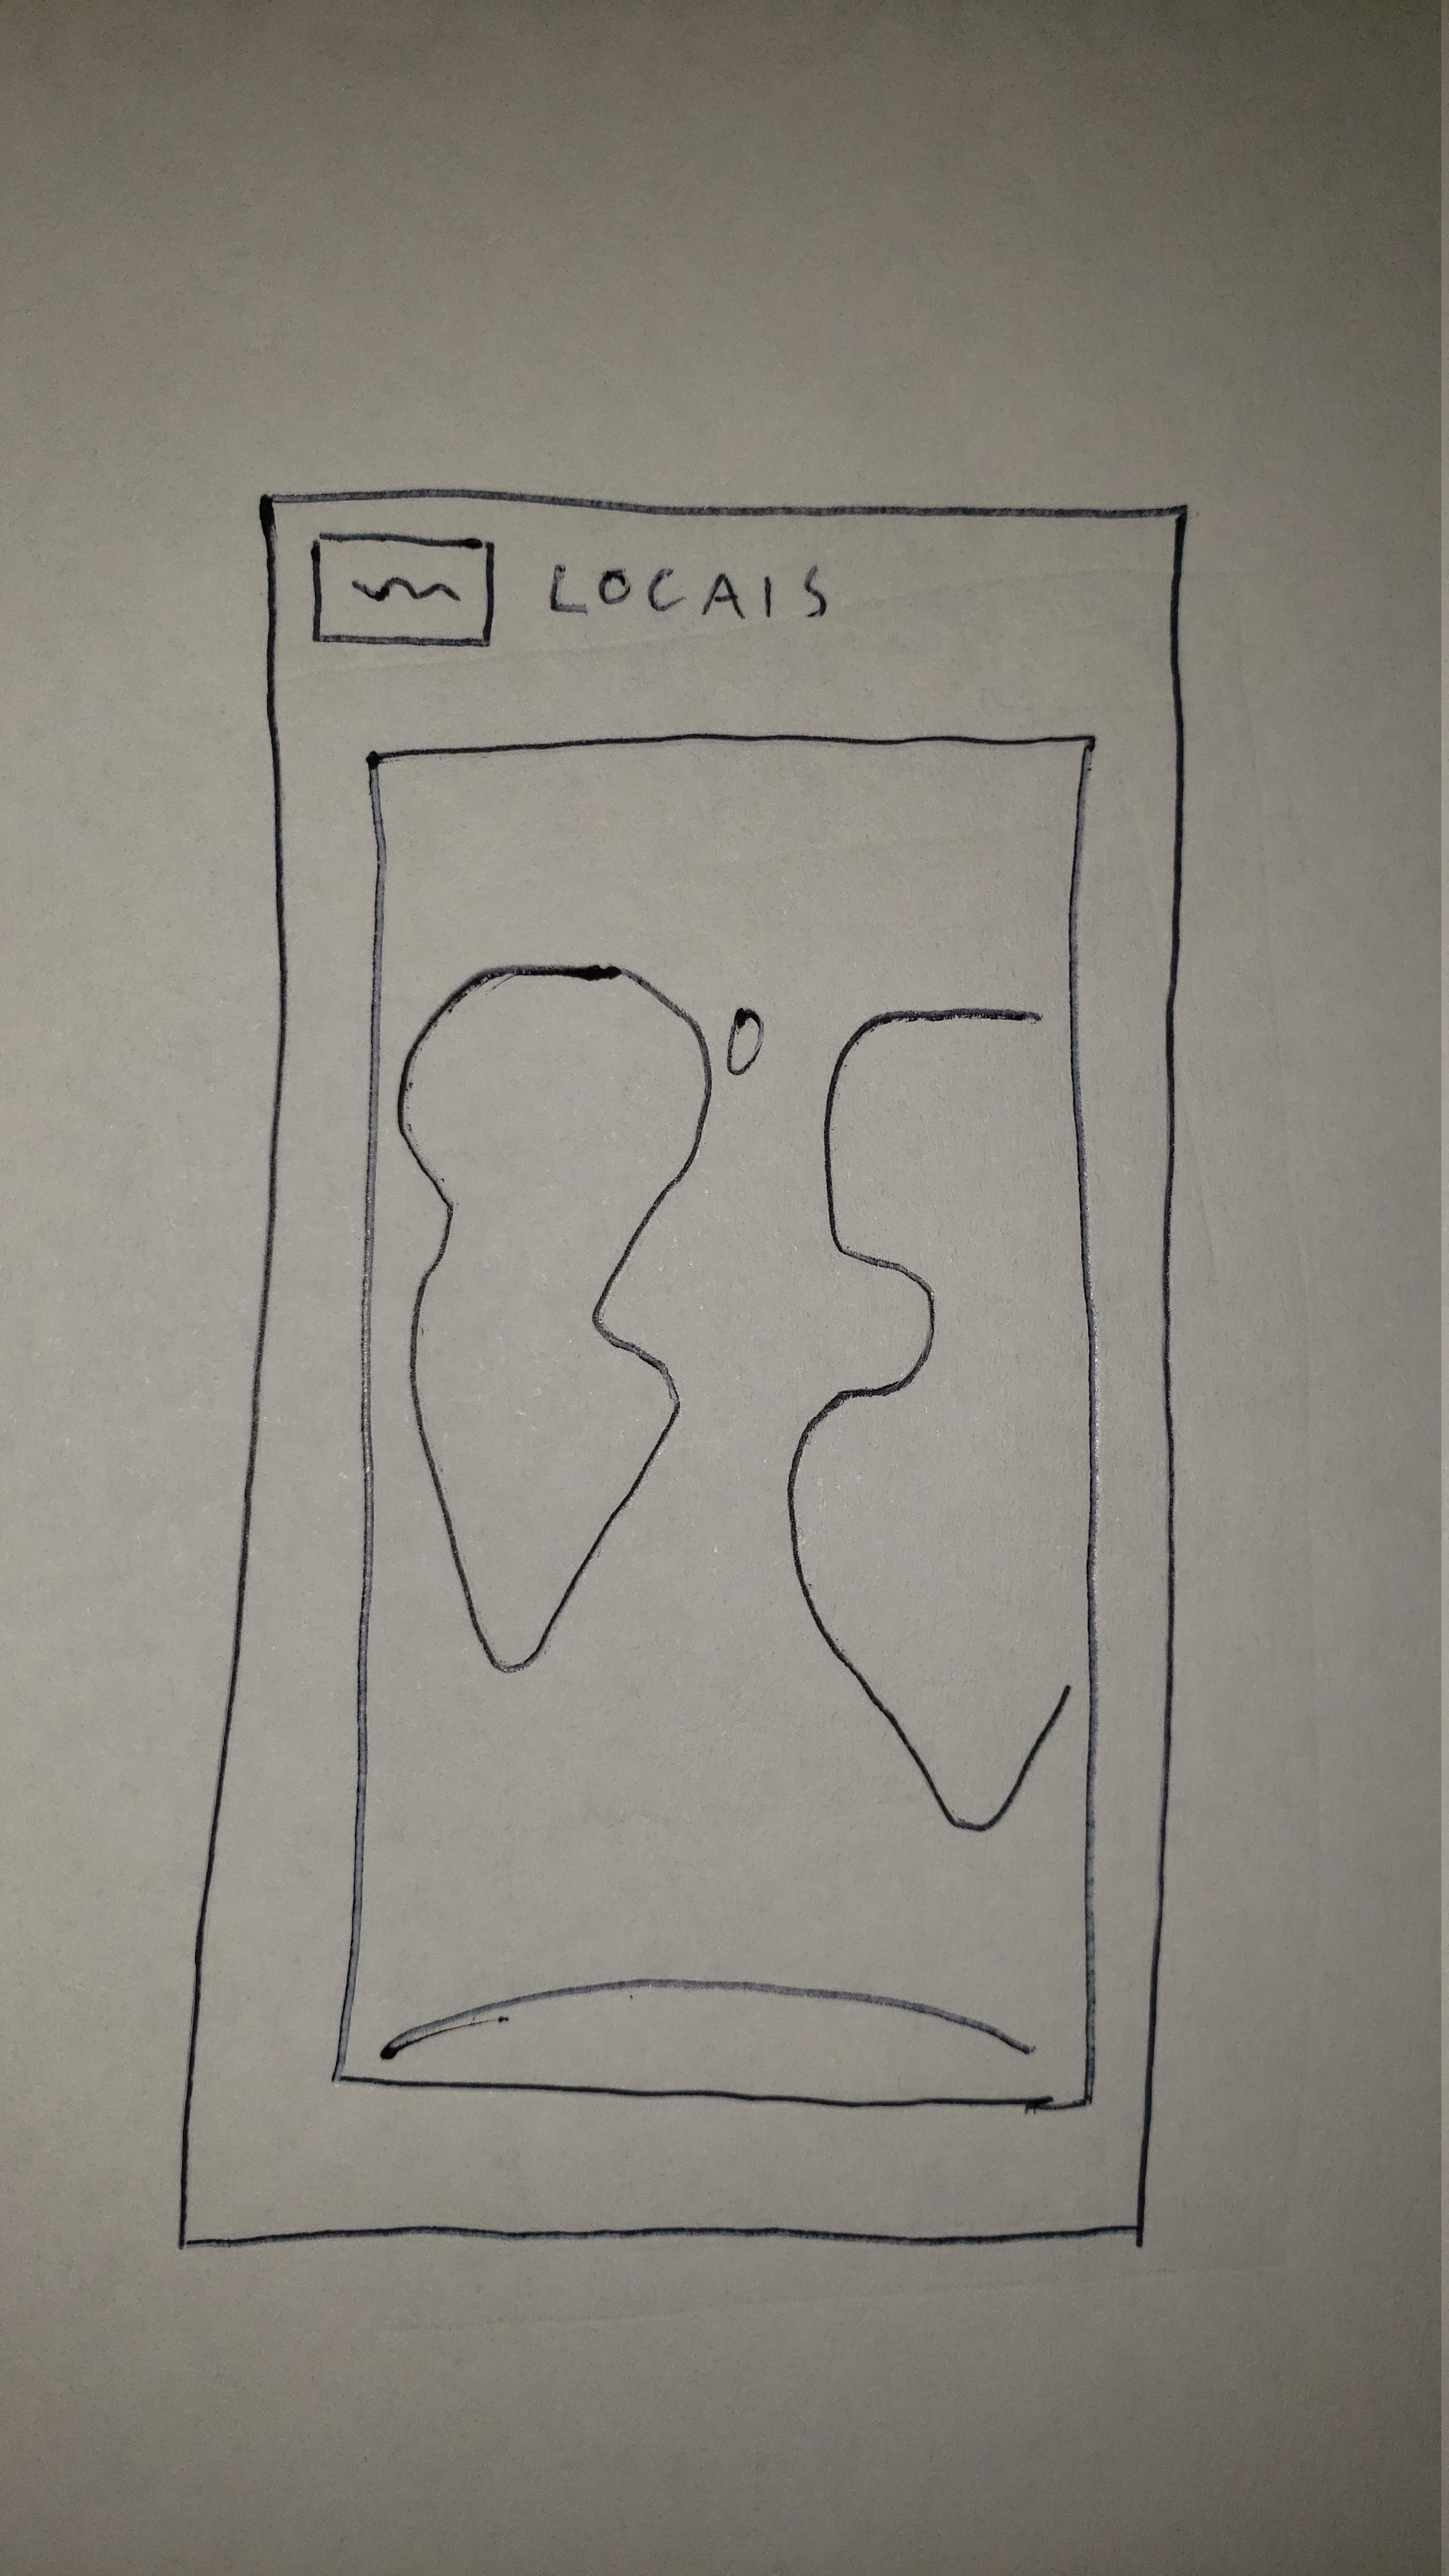Button: (308, 533, 497, 648)
Label: (547, 559, 828, 625)
Map: (333, 734, 1097, 2111)
Screen: (179, 488, 1189, 2245)
